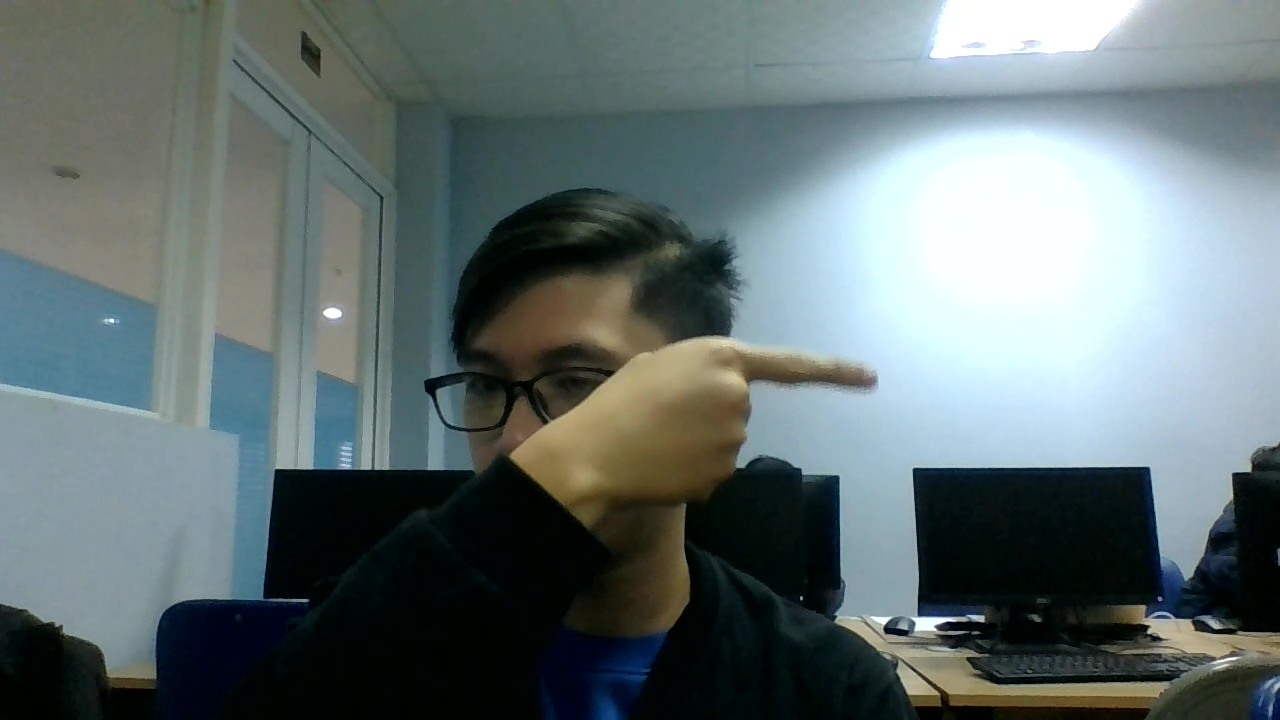left: (576, 335, 881, 499)
